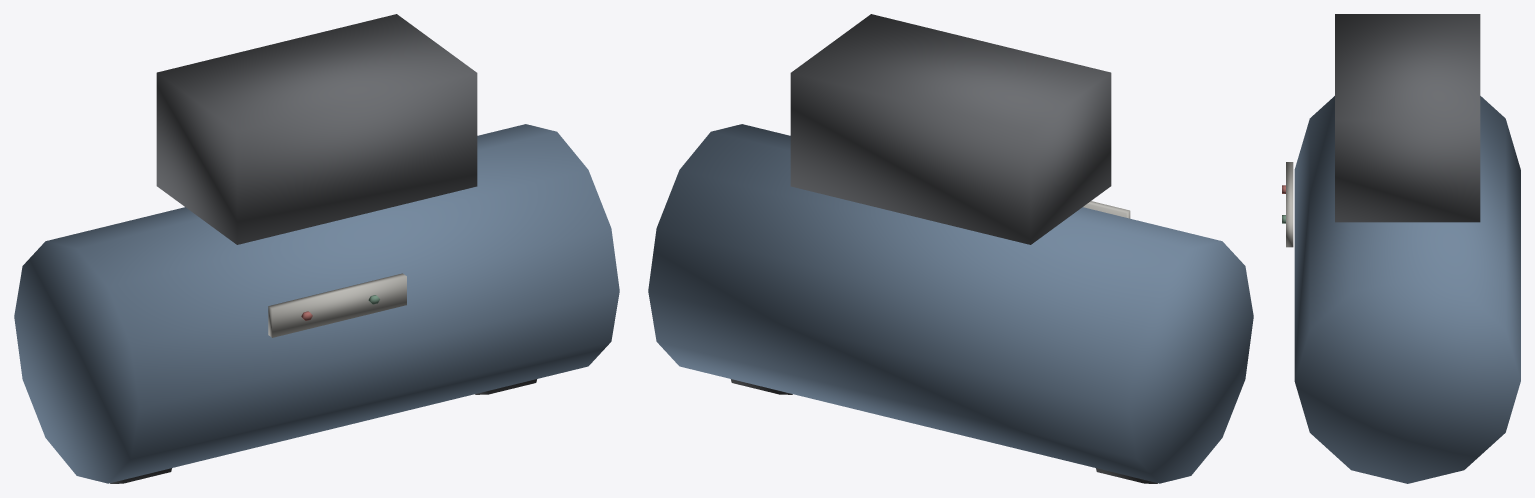
File: air_compressor__wide.glb
3 views of the same model, side by side, from view 1: azimuth 30°, elevation 25°; view 2: azimuth 150°, elevation 25°; view 3: azimuth 270°, elevation 25° (orthographic). The views are drawn at different scales.
Parts seen in each view (by area): view 1: world; view 2: world; view 3: world.
Part boxes in pixels (x1,y1,x2,y2): world: (14, 14, 619, 483); world: (648, 14, 1253, 483); world: (1282, 14, 1520, 483).
Bounding box in the file's own units: 1.24 × 0.89 × 0.591.
